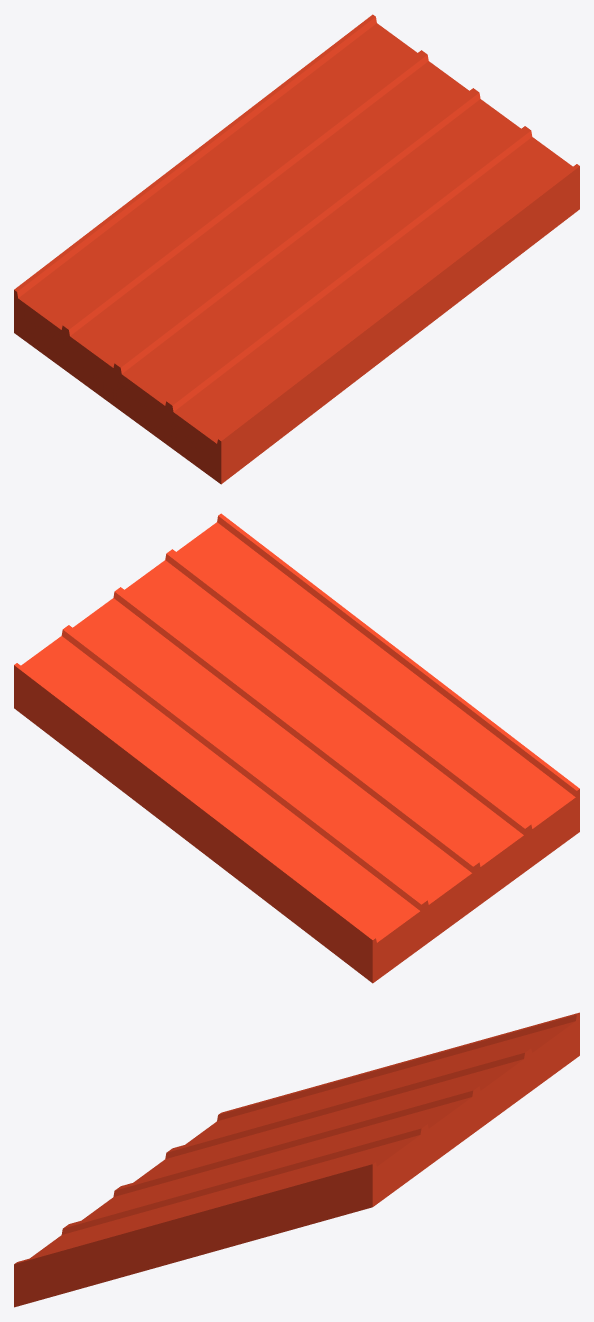
File: roof-metal-moderate-2x2m.fbx
The picture shows the model from 3 angles, top to bottom: view 1: azimuth 30°, elevation 25°; view 2: azimuth 150°, elevation 25°; view 3: azimuth 330°, elevation 25°; orthographic projection.
Parts seen in each view (by area): view 1: roof-metal-moderate-2x2m; view 2: roof-metal-moderate-2x2m; view 3: roof-metal-moderate-2x2m.
Part boxes in pixels (left/top/right/bottom): roof-metal-moderate-2x2m: left=14, top=14, right=579, bottom=484; roof-metal-moderate-2x2m: left=14, top=513, right=579, bottom=983; roof-metal-moderate-2x2m: left=14, top=1012, right=579, bottom=1307.
Bounding box in the file's own units: 2 × 1.23 × 2.
